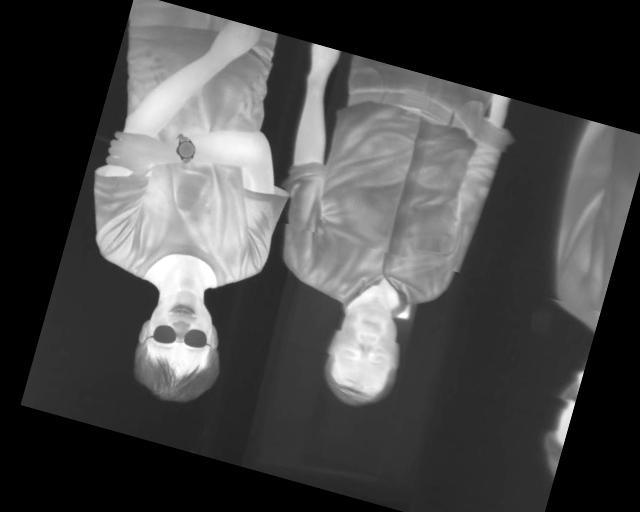face: (123, 279, 237, 413), (314, 294, 413, 416)
